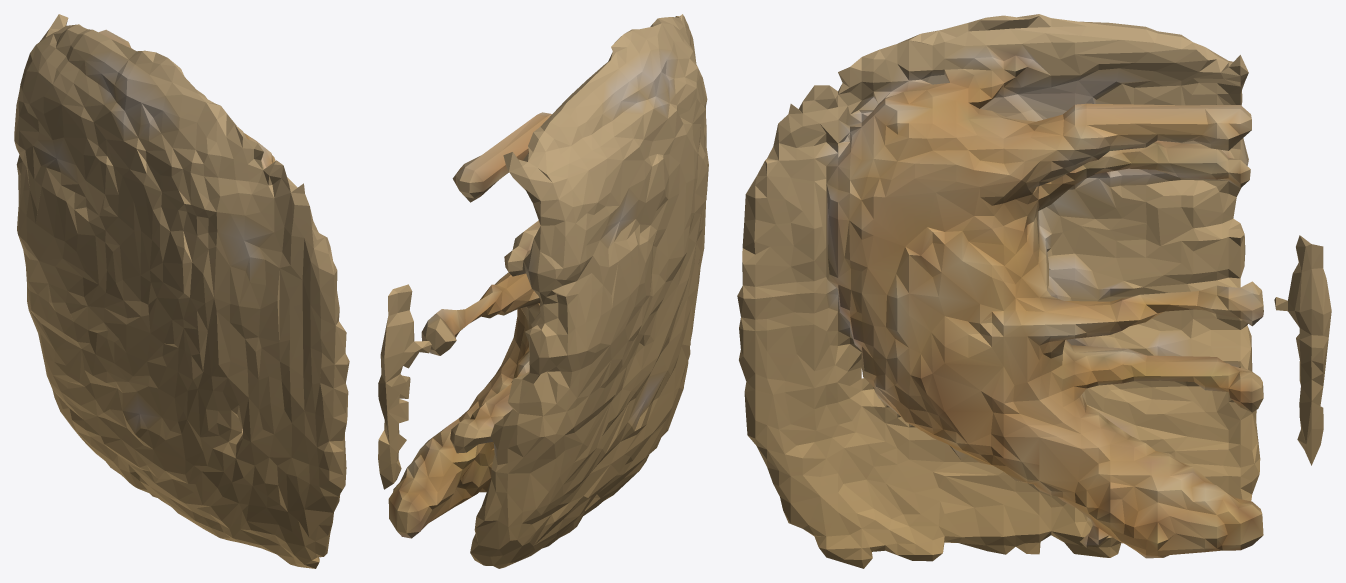
The model's file is grazer.glb.
3 views of the same model, side by side, from view 1: azimuth 30°, elevation 25°; view 2: azimuth 150°, elevation 25°; view 3: azimuth 270°, elevation 25° (orthographic). The views are drawn at different scales.
Parts seen in each view (by area): view 1: world; view 2: world; view 3: world.
Boxes of the visible parts, x1,y1,x2,y2 form: world: (14, 14, 349, 568); world: (378, 14, 708, 568); world: (737, 14, 1331, 568).
Bounding box in the file's own units: 0.4798 × 1.1 × 1.13.
